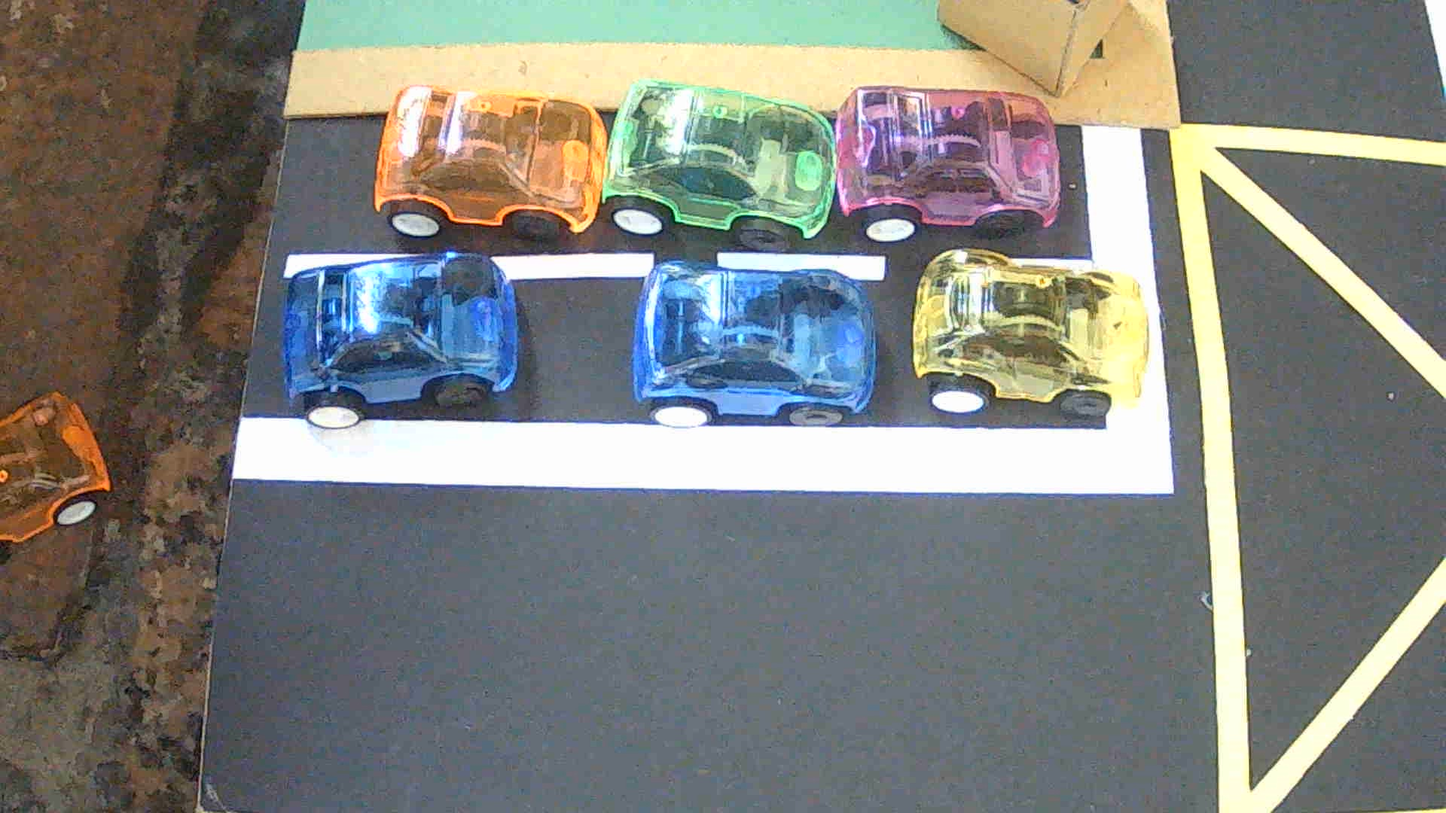Mobil biru: (282, 252, 518, 427), (632, 260, 877, 427)
Mobil hijau: (602, 80, 835, 249)
Mobil kuning: (912, 248, 1149, 419)
Mobil orange: (374, 86, 606, 240)
Mobil ungu: (834, 86, 1060, 242)
